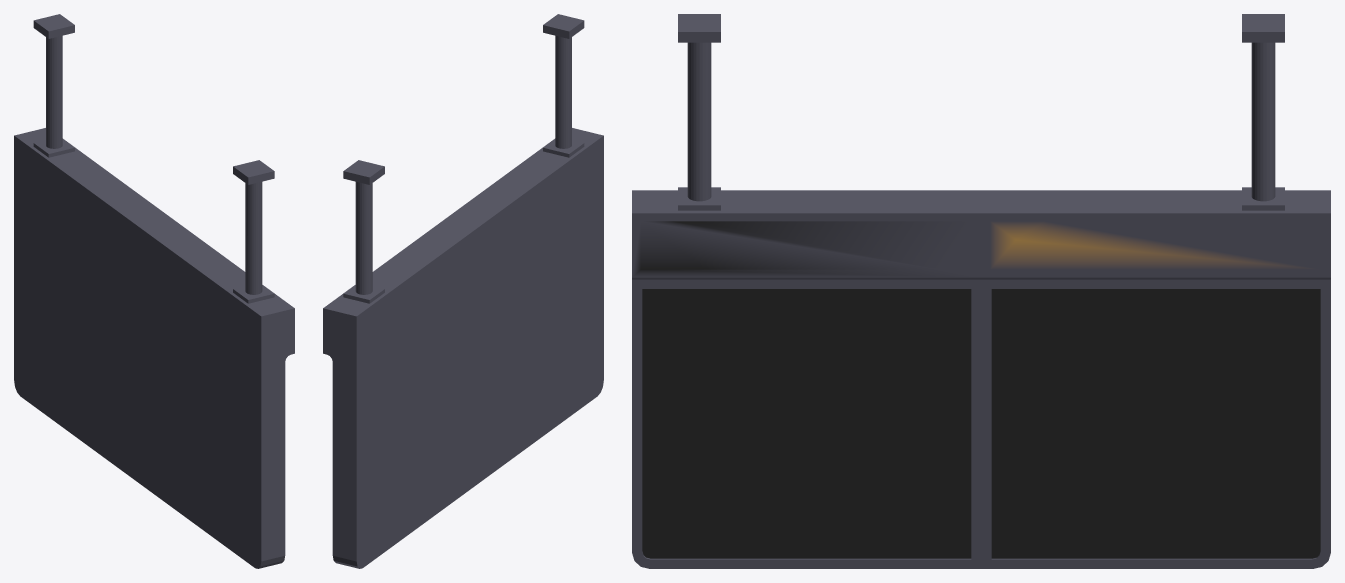
The model's file is panneau-DejrT8G6.glb.
The picture shows the model from 3 angles, left to right: view 1: azimuth 30°, elevation 25°; view 2: azimuth 150°, elevation 25°; view 3: azimuth 270°, elevation 25°; orthographic projection. The views are drawn at different scales.
Parts seen in each view (by area): view 1: 16.DepartureSign_Cube.148; view 2: 16.DepartureSign_Cube.148; view 3: 16.DepartureSign_Cube.148.
Part boxes in pixels (<box>): 16.DepartureSign_Cube.148: <box>14,14,294,568</box>; 16.DepartureSign_Cube.148: <box>323,14,603,568</box>; 16.DepartureSign_Cube.148: <box>632,14,1330,568</box>.
Size of the model in its own units: 0.1503 by 1.64 by 1.92.
